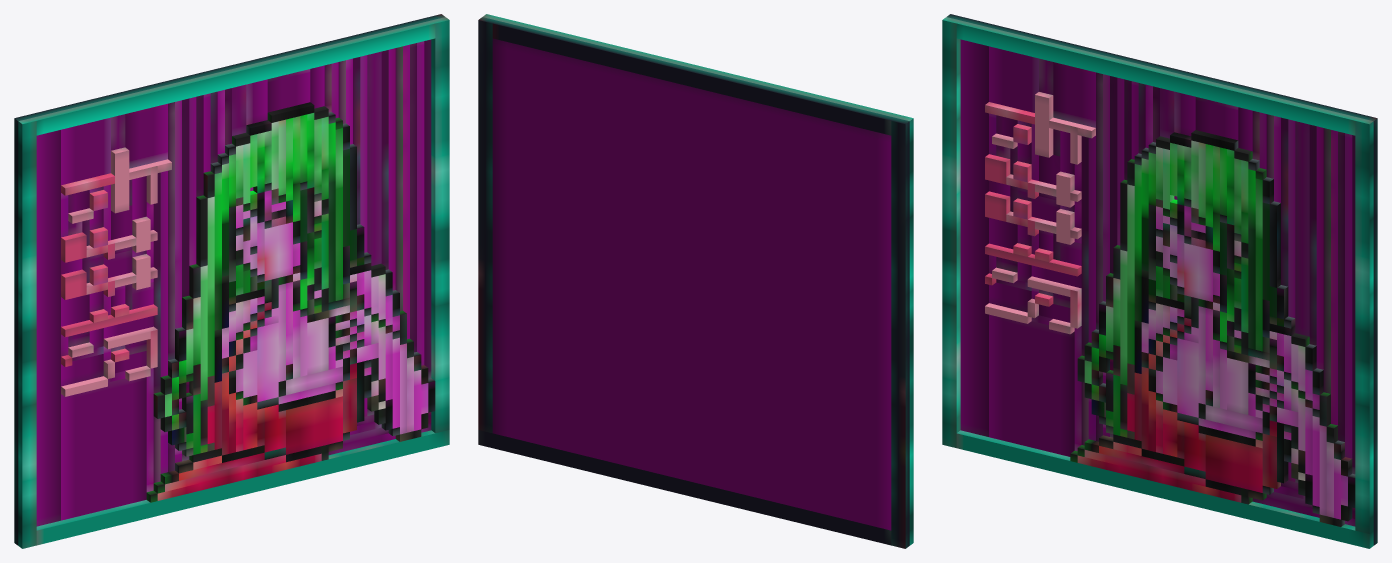
File: Billboard_Girl_B_00.fbx
The picture shows the model from 3 angles, left to right: view 1: azimuth 30°, elevation 25°; view 2: azimuth 150°, elevation 25°; view 3: azimuth 330°, elevation 25°; orthographic projection.
Visible parts, largest first — view 1: Billboard_Girl_B_00; view 2: Billboard_Girl_B_00; view 3: Billboard_Girl_B_00.
Boxes of the visible parts, x1,y1,x2,y2 form: Billboard_Girl_B_00: [14, 14, 449, 548]; Billboard_Girl_B_00: [478, 14, 913, 548]; Billboard_Girl_B_00: [942, 14, 1377, 548].
Size of the model in its own units: 300 by 285 by 10.
